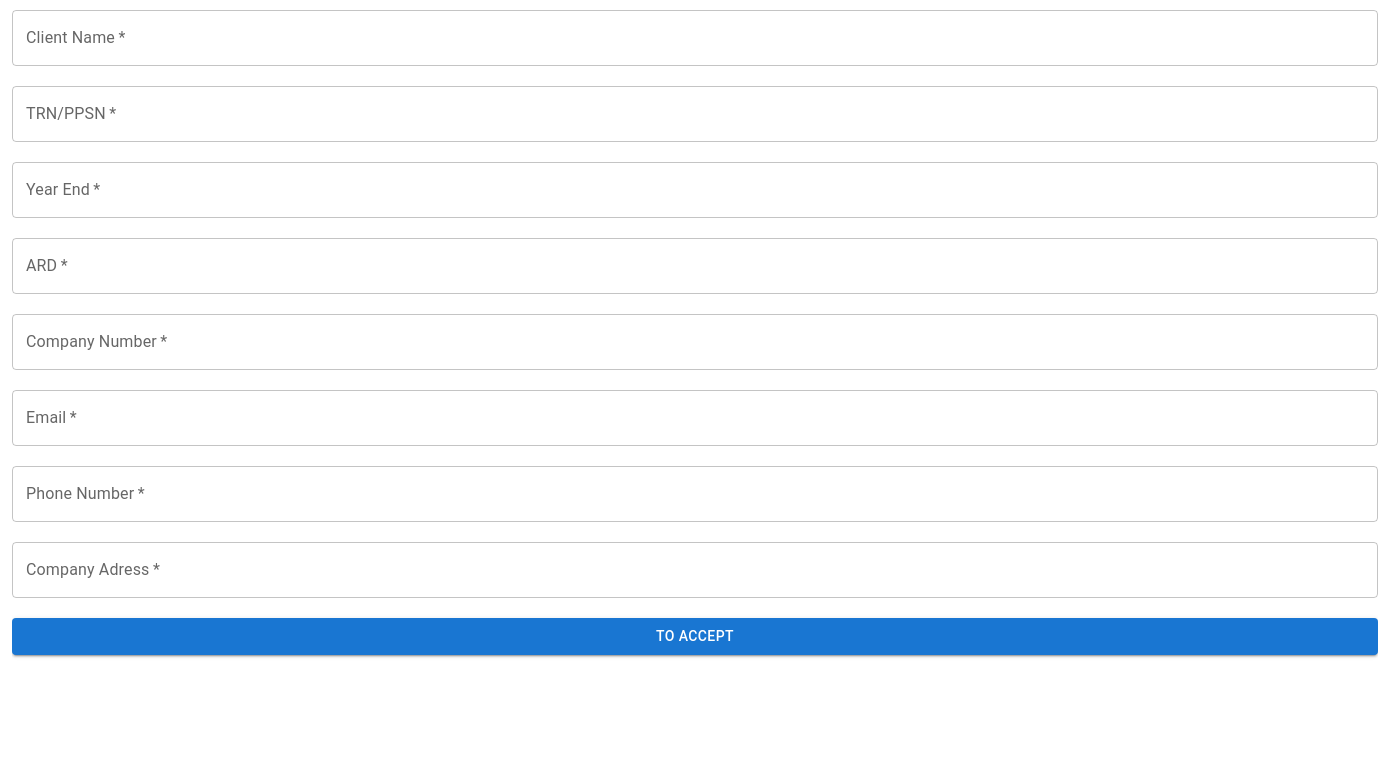
Scenario: ContactsForm tests › should show the message "this field is mandatory" if any of the form fields are empty
This screenshot has width=1390, height=764.
Click the button "To accept".
click(695, 636)  # box [12,618,1378,654]
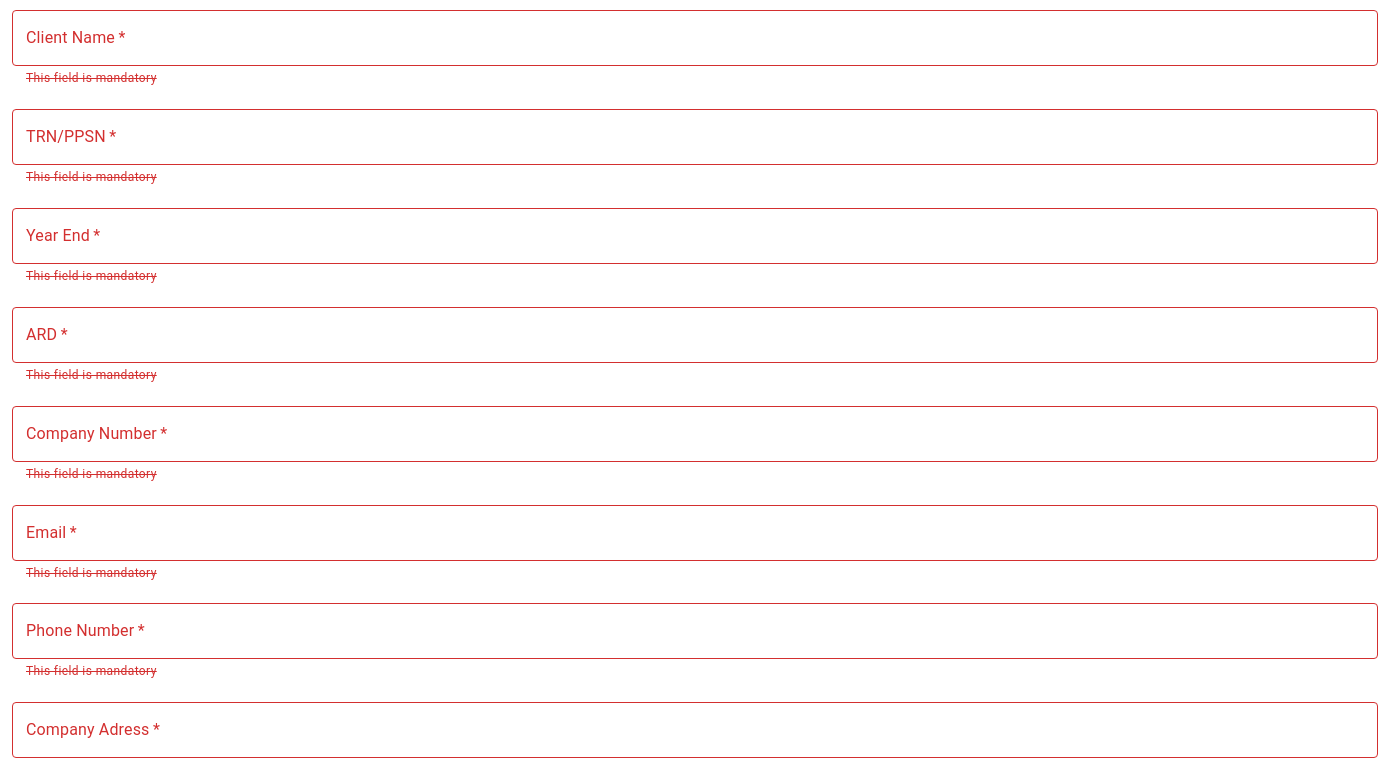
expect the text "This field is mandatory" is shown 8 times: met
